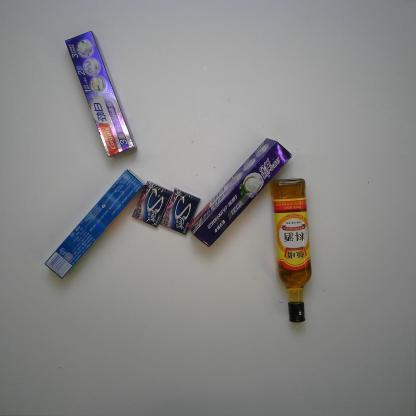Gum: (158, 184, 201, 238), (131, 180, 174, 231)
Personal Hygiene: (42, 169, 148, 280), (190, 136, 294, 248), (63, 28, 138, 157)
Seasoner: (269, 177, 312, 325)
